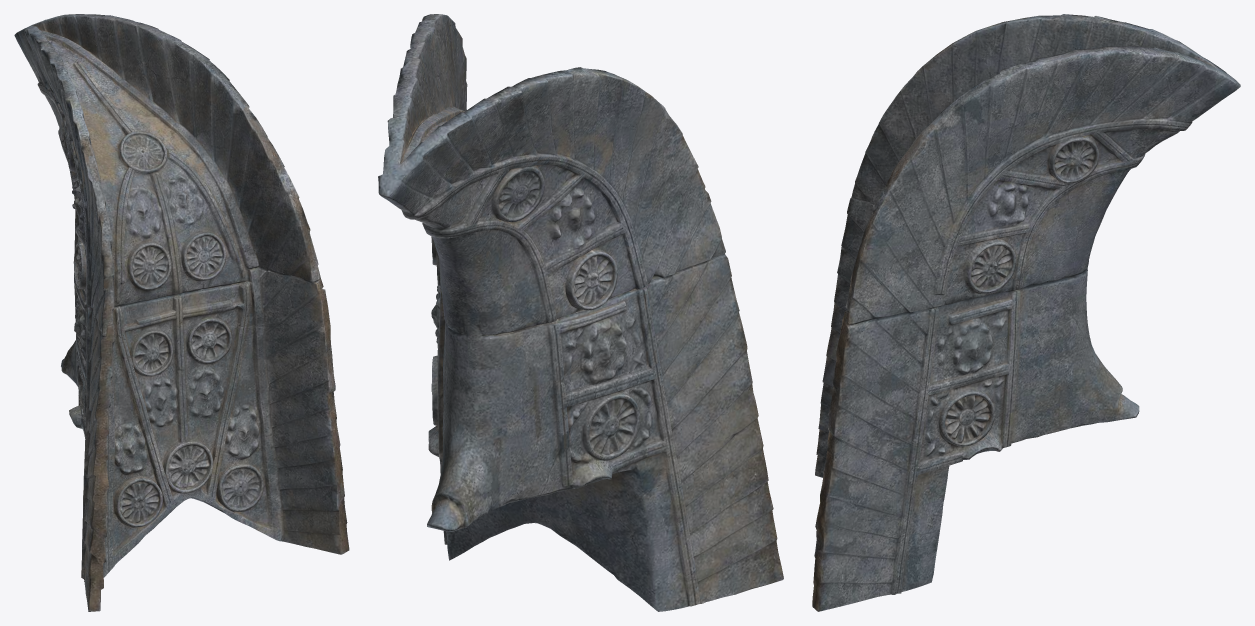
Rendered from chimi.glb.
3 renders of one model, left to right at view 1: azimuth 30°, elevation 25°; view 2: azimuth 150°, elevation 25°; view 3: azimuth 270°, elevation 25°, orthographic. The views are drawn at different scales.
Visible parts, largest first — view 1: SM_ShillaChimi_01_lowpoly; view 2: SM_ShillaChimi_01_lowpoly; view 3: SM_ShillaChimi_01_lowpoly.
Part boxes in pixels (x1=…): SM_ShillaChimi_01_lowpoly: x1=14, y1=14, x2=349, y2=611; SM_ShillaChimi_01_lowpoly: x1=378, y1=14, x2=783, y2=611; SM_ShillaChimi_01_lowpoly: x1=812, y1=14, x2=1240, y2=611.
Size of the model in its own units: 1.1 by 1.87 by 1.42.
Materials: 1 (1 with a texture image).
